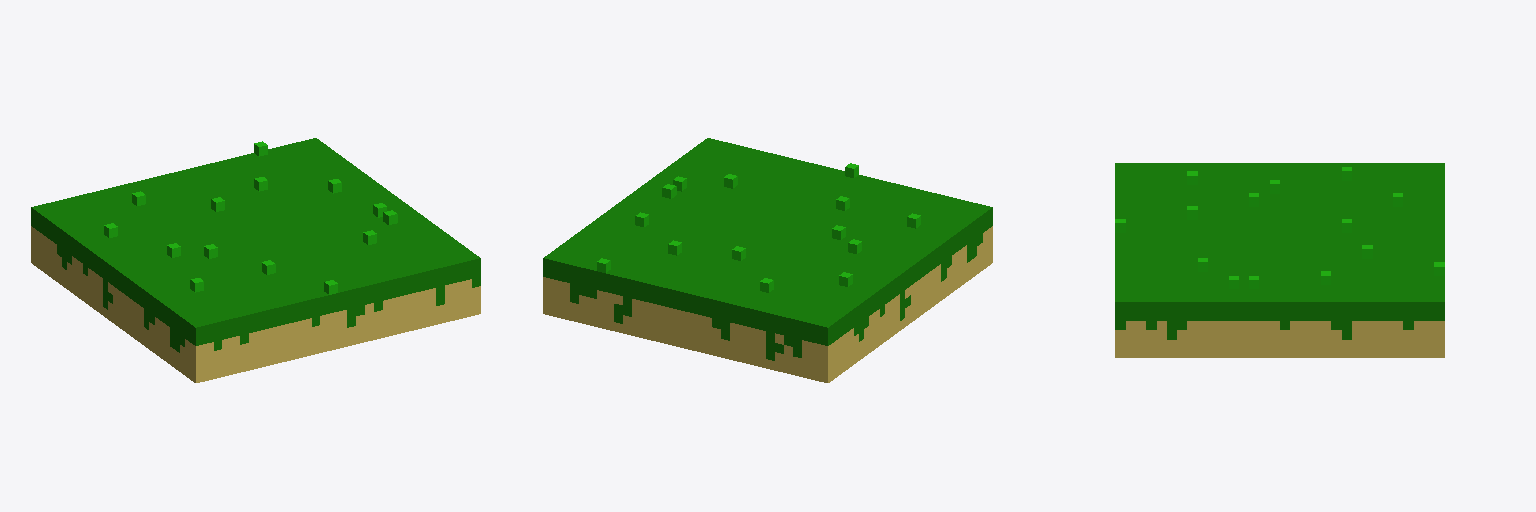
3 renders of one model, left to right at view 1: azimuth 30°, elevation 25°; view 2: azimuth 150°, elevation 25°; view 3: azimuth 270°, elevation 25°, orthographic.
Parts seen in each view (by area): view 1: 002_001_01; view 2: 002_001_01; view 3: 002_001_01.
Boxes of the visible parts, box(x1,y1,x2,y2) form: 002_001_01: box(31, 138, 480, 382); 002_001_01: box(543, 138, 992, 382); 002_001_01: box(1115, 163, 1444, 357).
Size of the model in its own units: 32 by 7 by 32.
Materials: 1 (1 with a texture image).